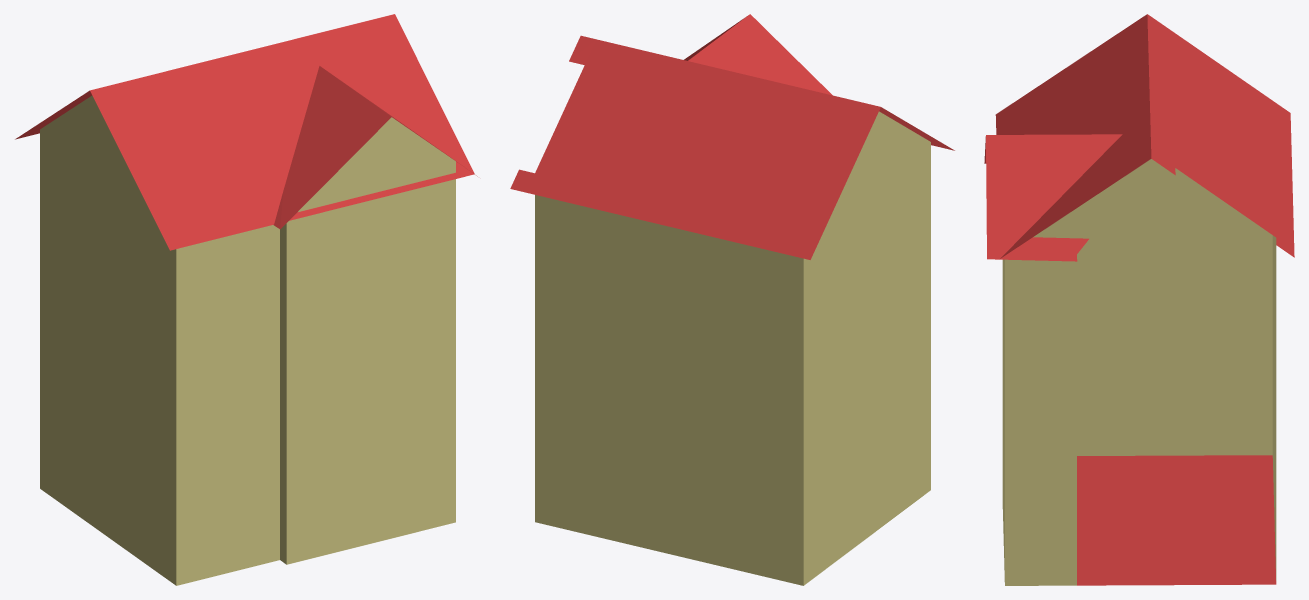
The picture shows the model from 3 angles, left to right: view 1: azimuth 30°, elevation 25°; view 2: azimuth 150°, elevation 25°; view 3: azimuth 270°, elevation 25°; orthographic projection. The views are drawn at different scales.
Size of the model in its own units: 9.57 by 8.57 by 13.24.
